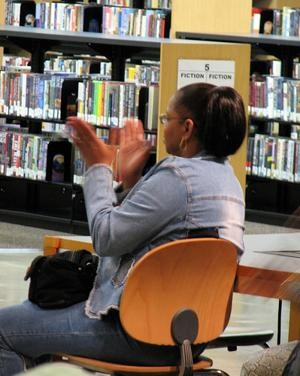person without safety: (117, 80, 254, 266)
